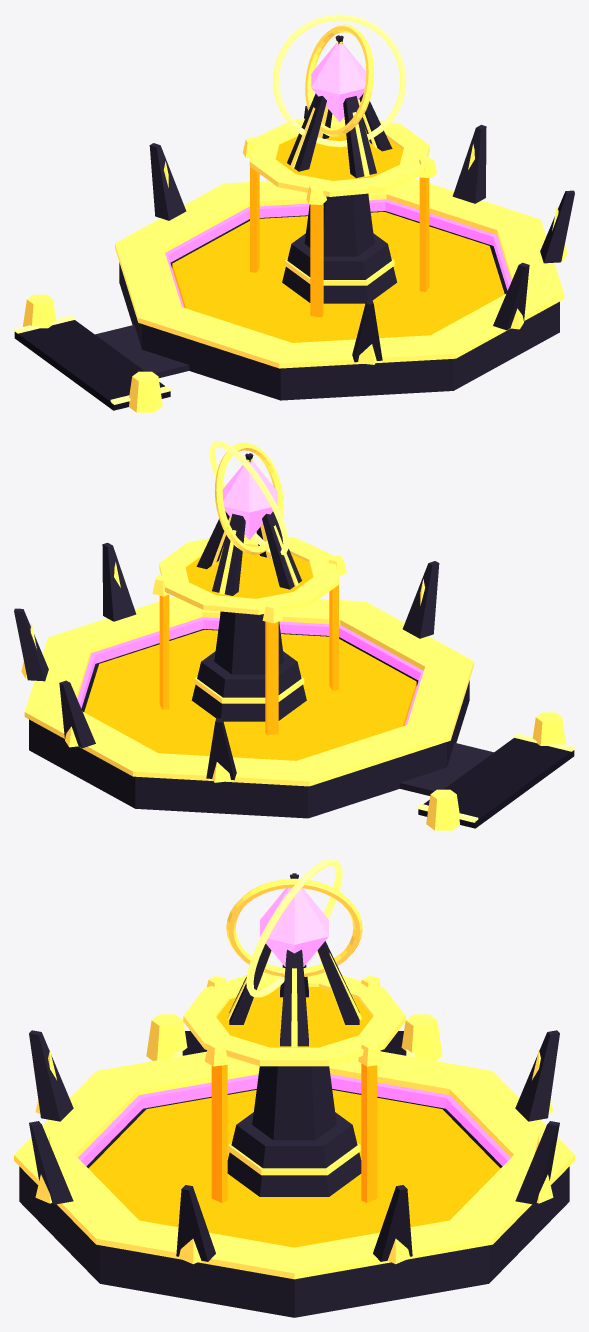
File: Welt2_Honigbrunnen.fbx
3 renders of one model, top to bottom at view 1: azimuth 30°, elevation 25°; view 2: azimuth 150°, elevation 25°; view 3: azimuth 270°, elevation 25°, orthographic. The views are drawn at different scales.
Visible parts, largest first — view 1: Brunnen_L1_Kranz, Brunnen_HonigFuell, Brunnen_L1_Wand, Brunnen_L1_Steg, Brunnen_L3_SchaleRand, Brunnen_L2_Sockel, Brunnen_L1_RandGlut, Brunnen_L3_Saeule, Brunnen_L3_SchaleHonig, Brunnen_L6_Kristall, Brunnen_L6_Ring2, Brunnen_L6_Ring (+15 smaller); view 2: Brunnen_L1_Kranz, Brunnen_HonigFuell, Brunnen_L1_Wand, Brunnen_L1_Steg, Brunnen_L3_SchaleRand, Brunnen_L2_Sockel, Brunnen_L1_RandGlut, Brunnen_L3_Saeule, Brunnen_L3_SchaleHonig, Brunnen_L6_Kristall, Brunnen_L1_StegBruecke, Brunnen_L6_Ring (+15 smaller); view 3: Brunnen_L1_Kranz, Brunnen_HonigFuell, Brunnen_L1_Wand, Brunnen_L3_SchaleRand, Brunnen_L2_Sockel, Brunnen_L3_Saeule, Brunnen_L1_RandGlut, Brunnen_L3_SchaleHonig, Brunnen_L6_Kristall, Brunnen_L6_Ring, Brunnen_L4_Fall1, Brunnen_L4_Fall0 (+14 smaller).
Part boxes in pixels (x1,y1,x2,y2): Brunnen_L1_Kranz: (115, 178, 564, 368); Brunnen_HonigFuell: (172, 212, 504, 342); Brunnen_L1_Wand: (119, 211, 559, 400); Brunnen_L1_Steg: (14, 320, 170, 410); Brunnen_L3_SchaleRand: (249, 116, 429, 196); Brunnen_L2_Sockel: (282, 233, 396, 303); Brunnen_L1_RandGlut: (165, 199, 511, 307); Brunnen_L3_Saeule: (304, 193, 374, 256); Brunnen_L3_SchaleHonig: (276, 132, 403, 180); Brunnen_L6_Kristall: (311, 43, 366, 122); Brunnen_L6_Ring2: (273, 14, 406, 147); Brunnen_L6_Ring: (305, 24, 374, 136); Brunnen_L1_Kranz: (24, 596, 473, 786); Brunnen_HonigFuell: (84, 629, 416, 760); Brunnen_L1_Wand: (29, 629, 469, 818); Brunnen_L1_Steg: (418, 738, 574, 828); Brunnen_L3_SchaleRand: (159, 535, 339, 614); Brunnen_L2_Sockel: (191, 651, 306, 721); Brunnen_L1_RandGlut: (77, 617, 423, 725); Brunnen_L3_Saeule: (214, 611, 284, 674); Brunnen_L3_SchaleHonig: (185, 550, 312, 598); Brunnen_L6_Kristall: (222, 461, 277, 540); Brunnen_L1_StegBruecke: (399, 743, 493, 795); Brunnen_L6_Ring: (214, 442, 283, 554); Brunnen_L1_Kranz: (14, 1051, 574, 1279); Brunnen_HonigFuell: (88, 1090, 500, 1247); Brunnen_L1_Wand: (19, 1089, 569, 1317); Brunnen_L3_SchaleRand: (183, 972, 405, 1066); Brunnen_L2_Sockel: (227, 1112, 361, 1196); Brunnen_L3_Saeule: (252, 1066, 336, 1140); Brunnen_L1_RandGlut: (78, 1074, 510, 1166); Brunnen_L3_SchaleHonig: (216, 987, 372, 1047); Brunnen_L6_Kristall: (260, 888, 328, 966); Brunnen_L6_Ring: (226, 878, 362, 976); Brunnen_L4_Fall1: (361, 1063, 377, 1202); Brunnen_L4_Fall0: (211, 1064, 227, 1202).
Size of the model in its own units: 25.1 by 14.26 by 21.2.
